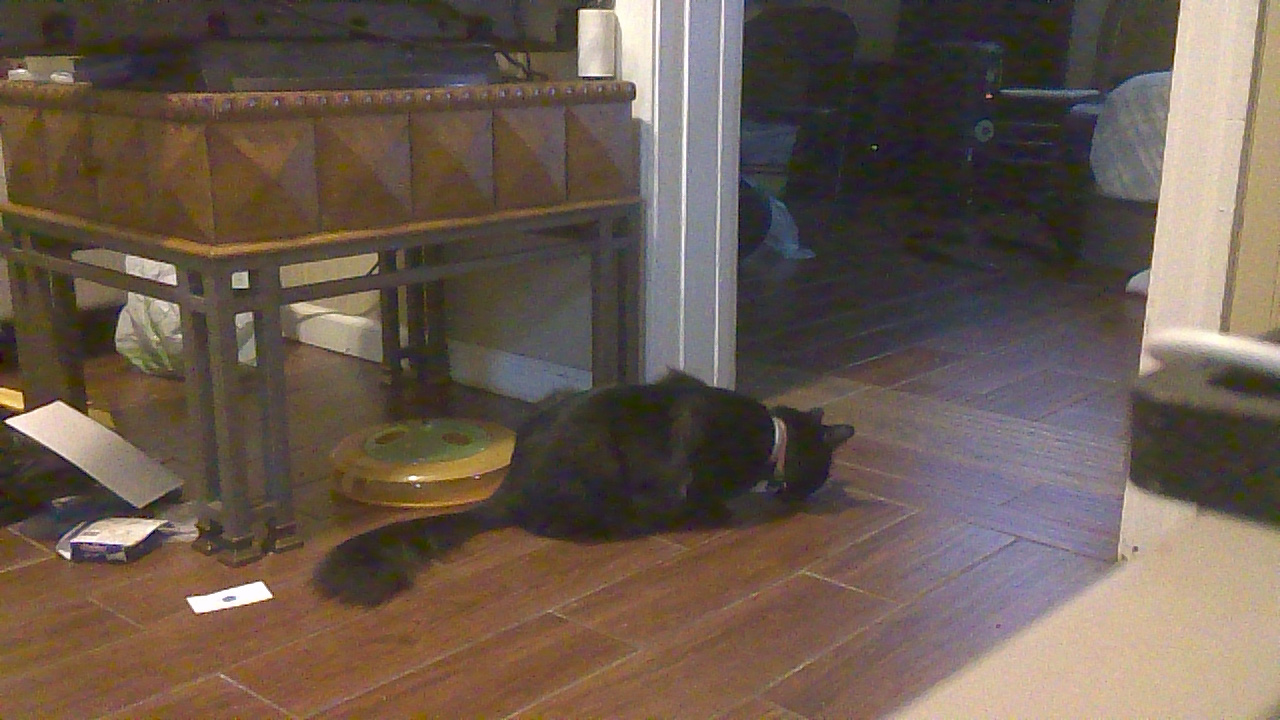cat: (300, 370, 857, 615)
